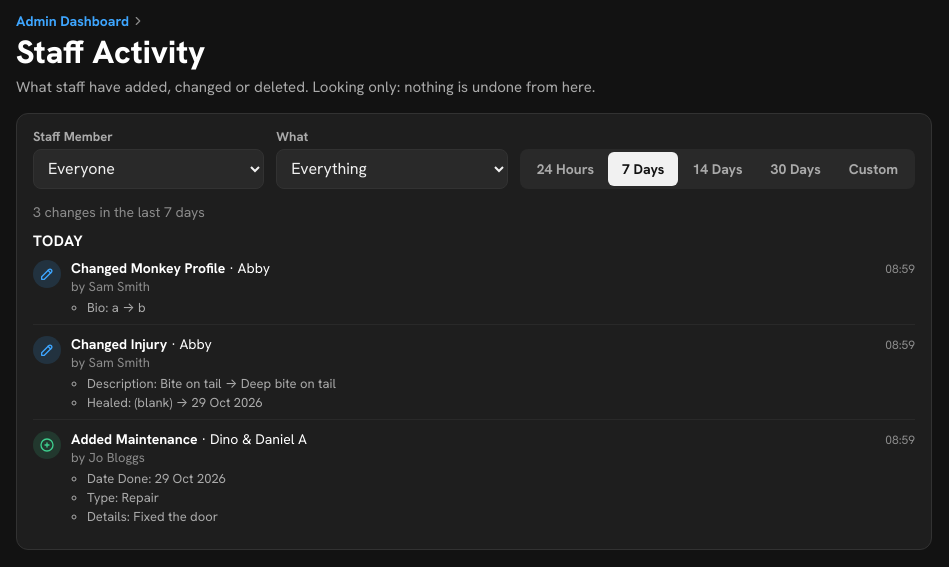
the page: everyone's this week, by day, with who; then one person, a longer period and a group
Expected: the heading "Staff Activity" is shown, 16,31 -> 205,73
Expected: the text "3 changes in the last 7 days" is shown, 33,203 -> 205,221
Note: the staff list, by name
Select "Sam Smith" in the dropdown labelled "Staff Member": [149, 169] box 33,149 -> 264,189
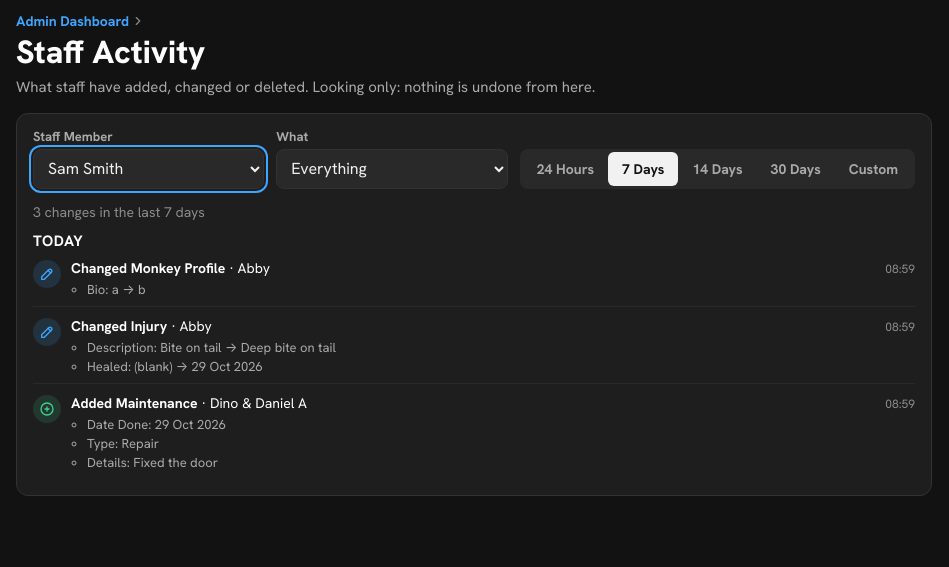
Expected: the text "3 changes in the last 7 days" is shown, 33,203 -> 205,221
Expected: the text "by Sam Smith" is gone
Click the button "30 Days": [796, 169] box 757,152 -> 835,186
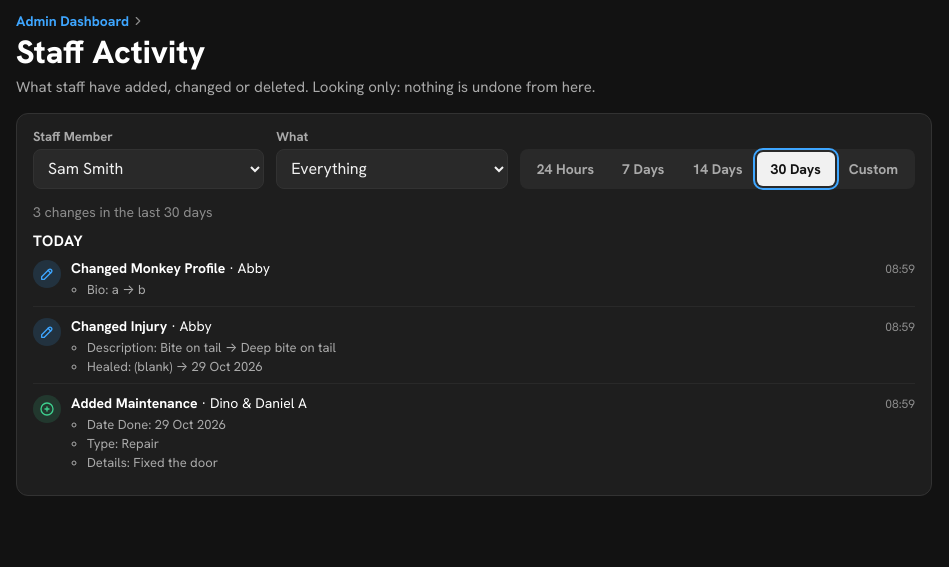
Expected: the text "3 changes in the last 30 days" is shown, 33,203 -> 213,221
Select "Medical" in the dropdown labelled "What": [392, 169] box 276,149 -> 508,189
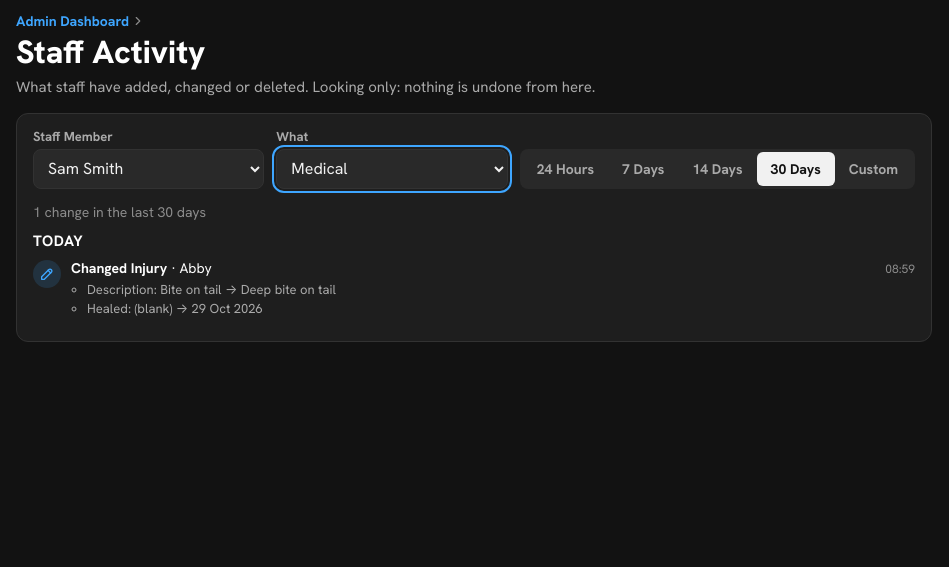
Expected: the text "1 change in the last 30 days" is shown, 33,203 -> 206,221
Expected: the list item "Bio: a → b" is gone
